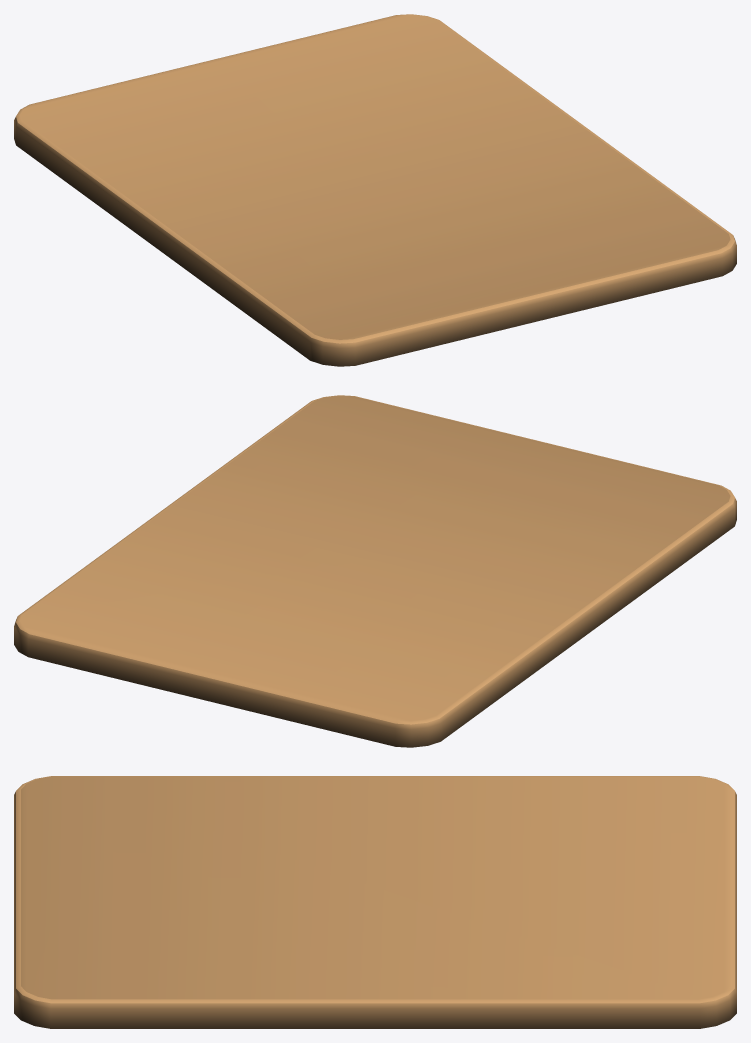
3 views of the same model, one above another, from view 1: azimuth 30°, elevation 25°; view 2: azimuth 150°, elevation 25°; view 3: azimuth 270°, elevation 25° (orthographic). The views are drawn at different scales.
Visible parts, largest first — view 1: Base_20x30; view 2: Base_20x30; view 3: Base_20x30.
Boxes of the visible parts, bbox=[...] form: Base_20x30: bbox=[14, 14, 736, 366]; Base_20x30: bbox=[14, 395, 736, 747]; Base_20x30: bbox=[14, 776, 736, 1028].
Size of the model in its own units: 20 by 1.08 by 26.69.
1 material, 1 textured.
